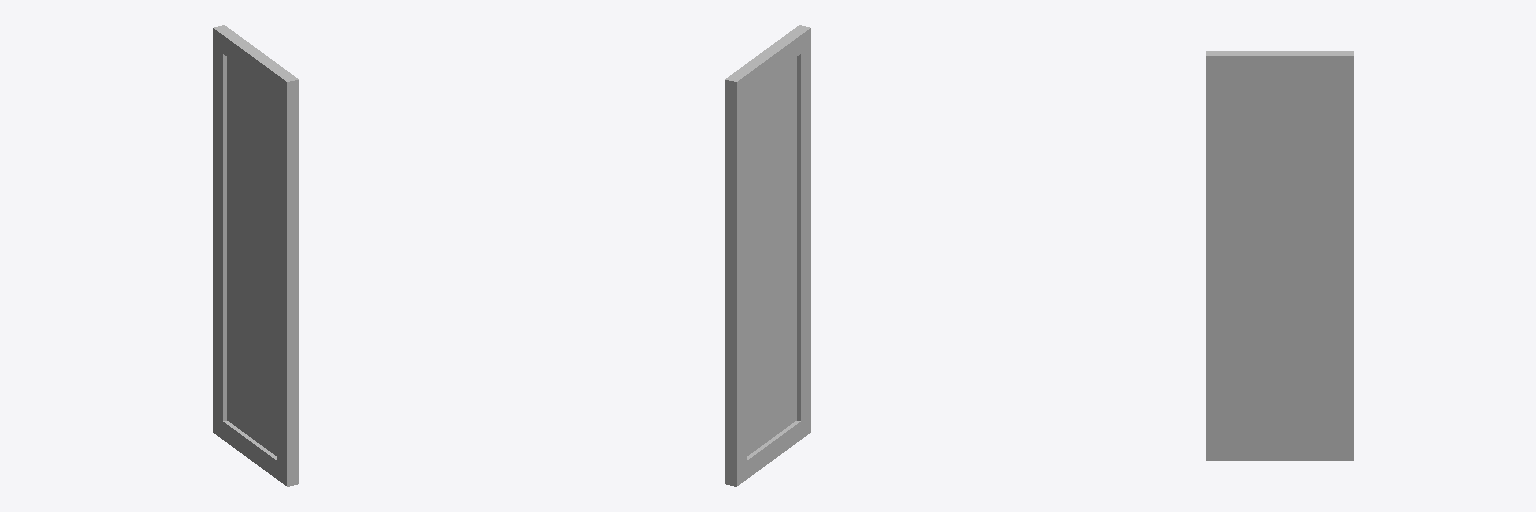
Rendered from door.obj.
The picture shows the model from 3 angles: view 1: azimuth 30°, elevation 25°; view 2: azimuth 150°, elevation 25°; view 3: azimuth 270°, elevation 25°; orthographic projection.
Visible parts, largest first — view 1: Cube; view 2: Cube; view 3: Cube.
Boxes of the visible parts, x1,y1,x2,y2 form: Cube: [213, 25, 298, 486]; Cube: [725, 25, 810, 486]; Cube: [1206, 51, 1353, 460].
Bounding box in the file's own units: 0.18 × 6 × 2.